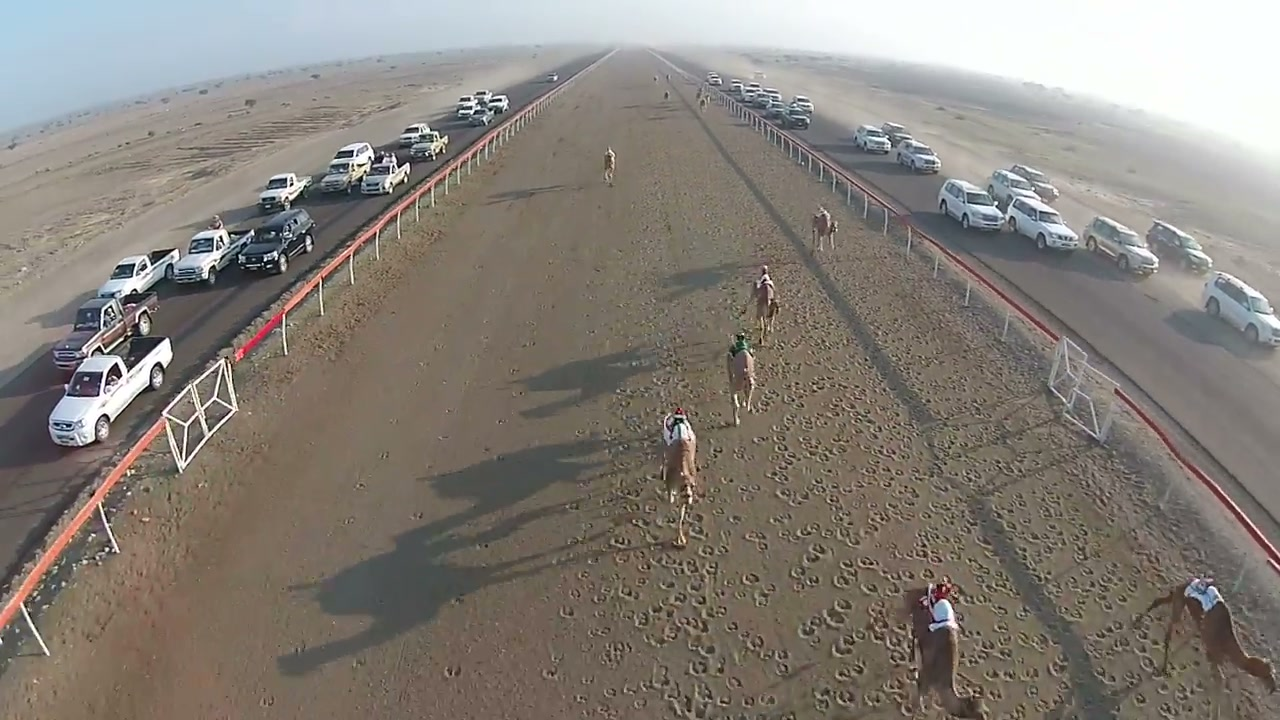animal_footprint: (608, 291, 1124, 713)
